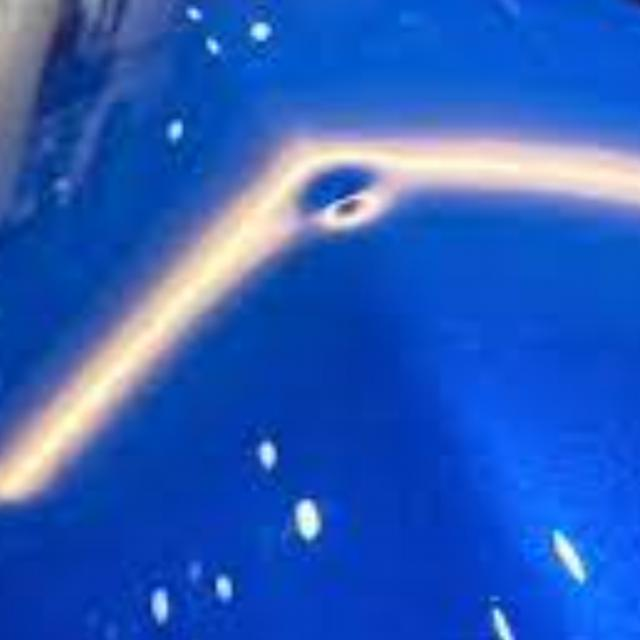dents: (280, 155, 408, 234)
